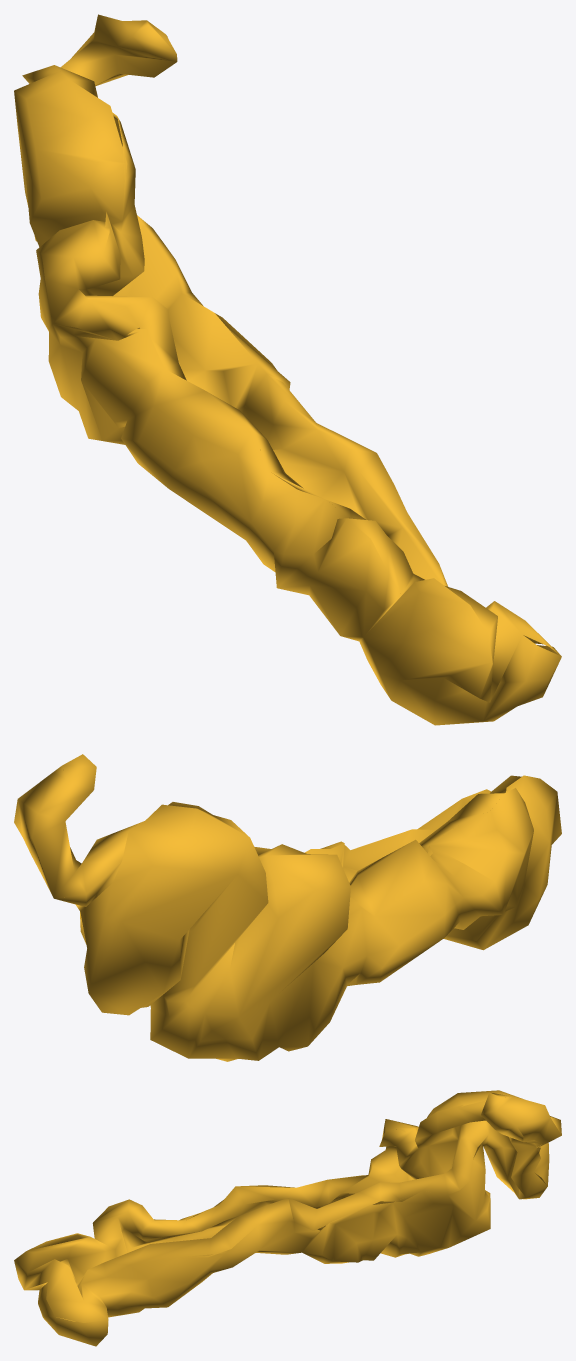
File: nervoso-inferior-temporal-gyrus-r.glb
3 views of the same model, one above another, from view 1: azimuth 30°, elevation 25°; view 2: azimuth 150°, elevation 25°; view 3: azimuth 270°, elevation 25° (orthographic). The views are drawn at different scales.
Visible parts, largest first — view 1: Inferior temporal gyrus.r; view 2: Inferior temporal gyrus.r; view 3: Inferior temporal gyrus.r.
Part boxes in pixels (x1,y1,x2,y2): Inferior temporal gyrus.r: (14, 14, 561, 725); Inferior temporal gyrus.r: (14, 754, 561, 1061); Inferior temporal gyrus.r: (14, 1090, 561, 1346).
Size of the model in its own units: 0.0256 by 0.0441 by 0.0897.
